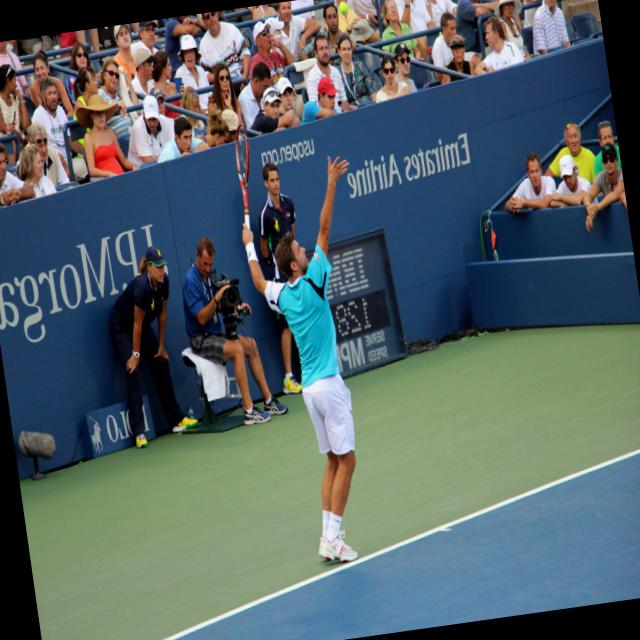Tennis Ball: (337, 0, 348, 14)
